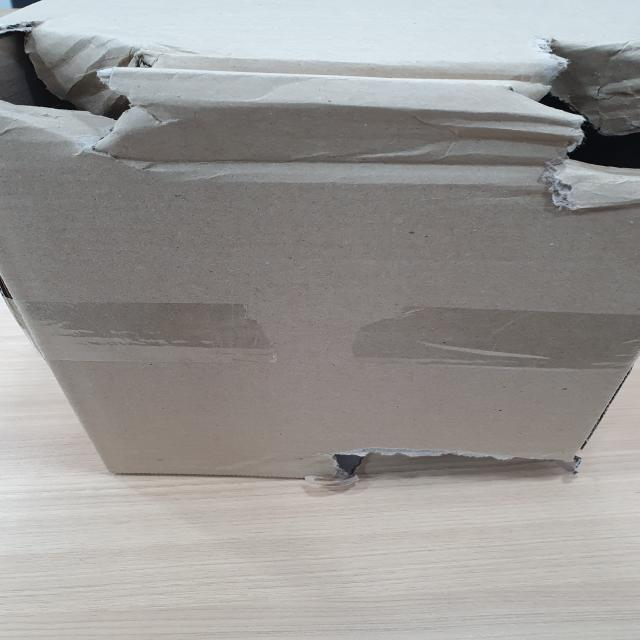hole: (493, 42, 640, 215), (0, 19, 162, 156), (311, 440, 583, 480)
